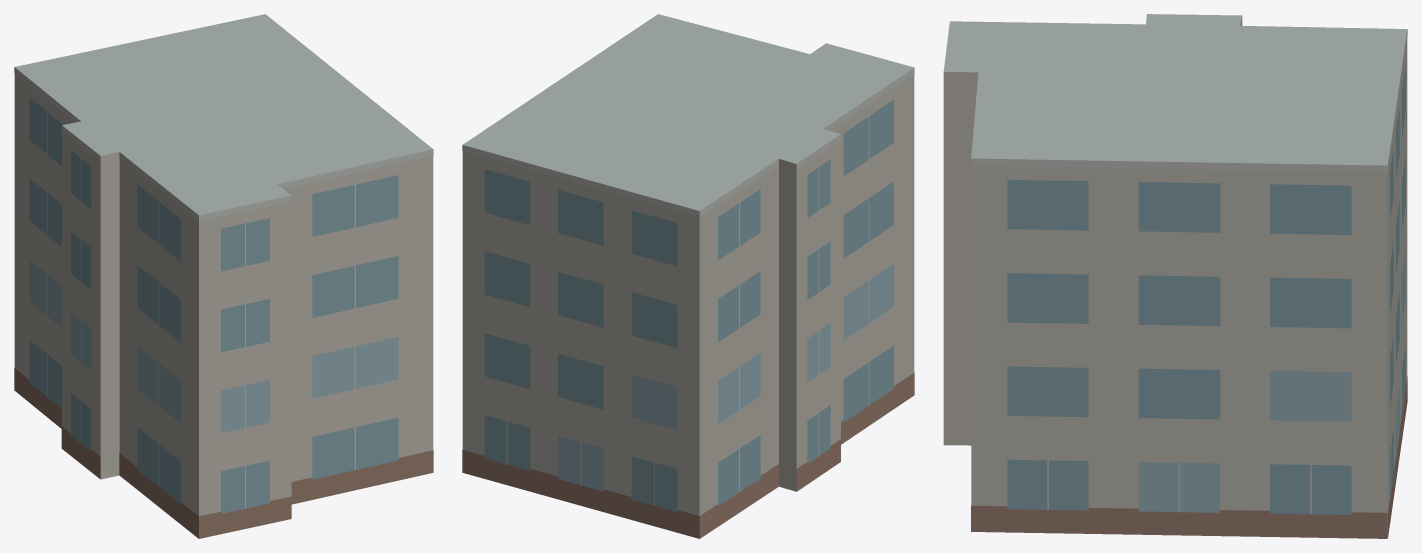
The model's file is survey-upis-32696916.glb.
3 views of the same model, side by side, from view 1: azimuth 30°, elevation 25°; view 2: azimuth 150°, elevation 25°; view 3: azimuth 270°, elevation 25° (orthographic). The views are drawn at different scales.
Visible parts, largest first — view 1: survey-upis-32696916.tmp; view 2: survey-upis-32696916.tmp; view 3: survey-upis-32696916.tmp.
Boxes of the visible parts, x1,y1,x2,y2 form: survey-upis-32696916.tmp: (14,14,433,538); survey-upis-32696916.tmp: (462,14,914,538); survey-upis-32696916.tmp: (943,14,1407,538).
Size of the model in its own units: 11.24 by 12.9 by 14.53.
